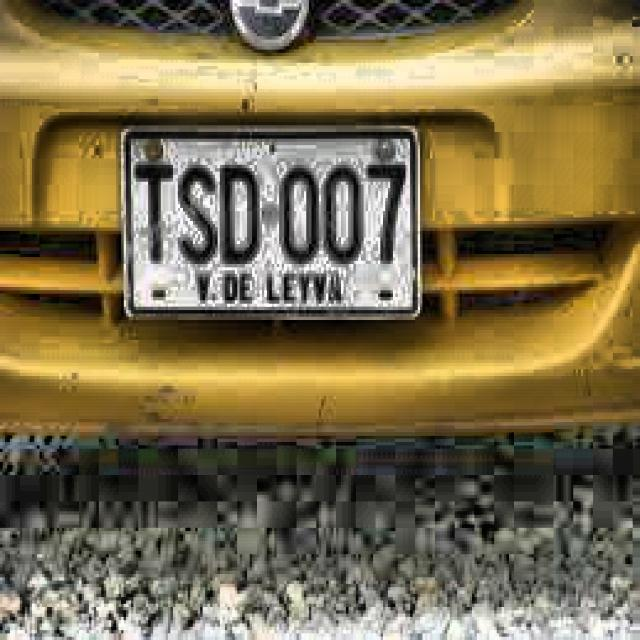plate: (124, 131, 420, 314)
